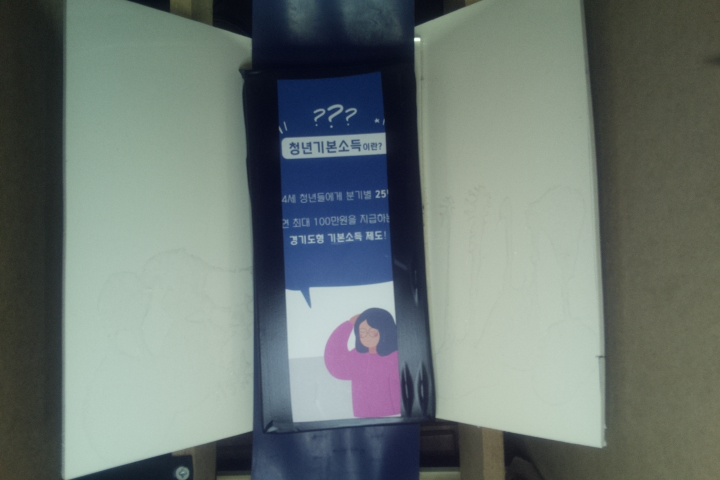book: (242, 52, 433, 436)
